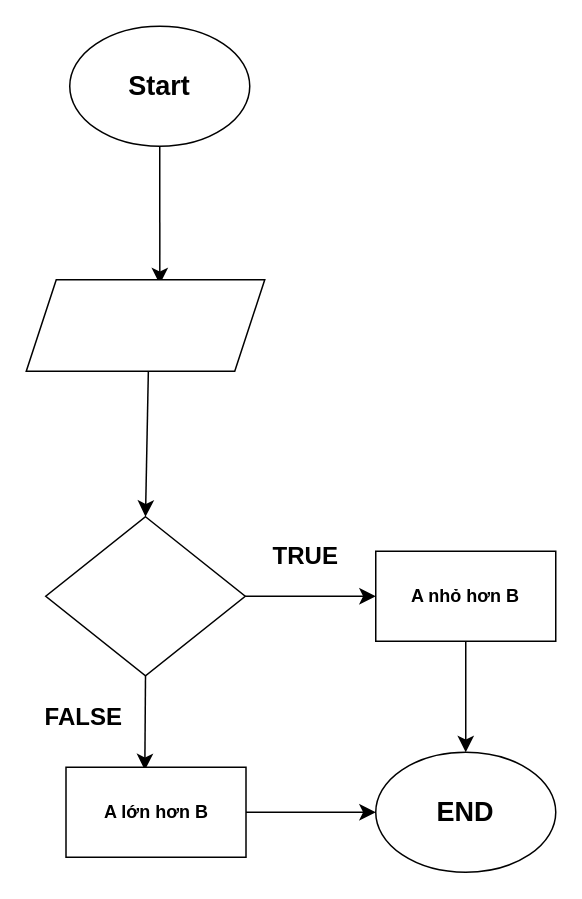
Image size: 582x899. Some labels were removed from this diagram. The box of each missing label's shape, as (x1, y1, x2, y2) in pixels:
A<B: (44, 515, 245, 676)
nhập giá trị A và B: (25, 278, 265, 371)
